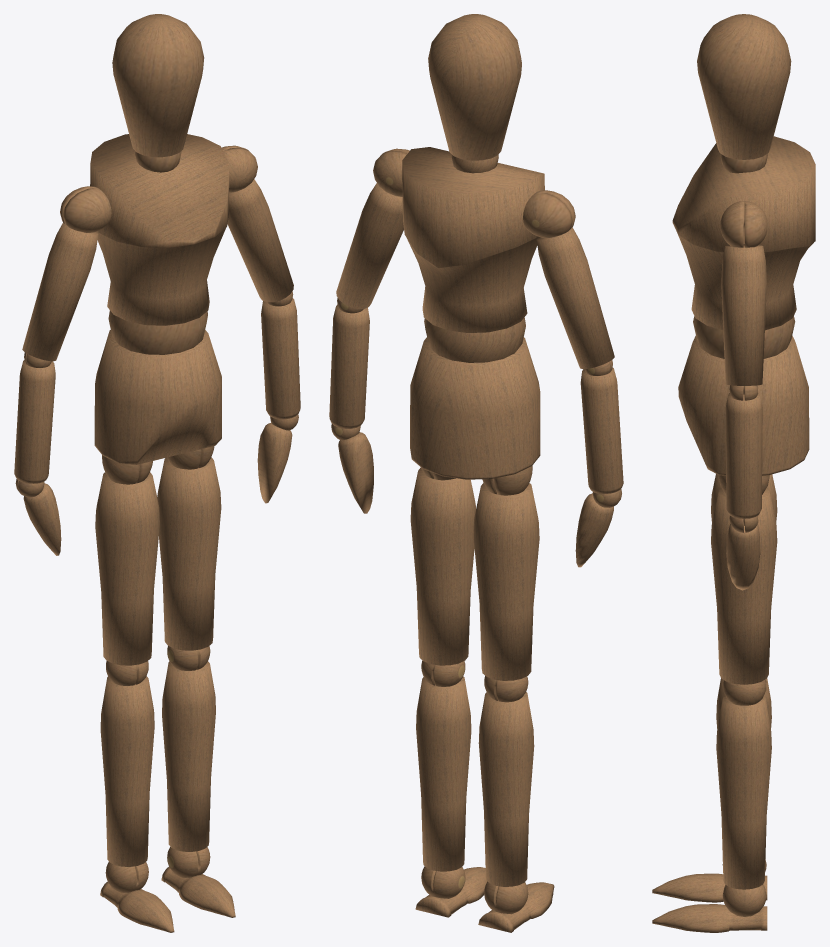
The model's file is wooden_artist_mannequin.glb.
3 renders of one model, left to right at view 1: azimuth 30°, elevation 25°; view 2: azimuth 150°, elevation 25°; view 3: azimuth 270°, elevation 25°, orthographic. The views are drawn at different scales.
Visible parts, largest first — view 1: Man-Waist-Low.003; view 2: Man-Waist-Low.003; view 3: Man-Waist-Low.003.
Boxes of the visible parts, <box> form: Man-Waist-Low.003: <box>14,14,300,932</box>; Man-Waist-Low.003: <box>329,14,623,932</box>; Man-Waist-Low.003: <box>652,14,815,932</box>.
Size of the model in its own units: 0.6036 by 1.78 by 0.2963.
Materials: 1 (1 with a texture image).
